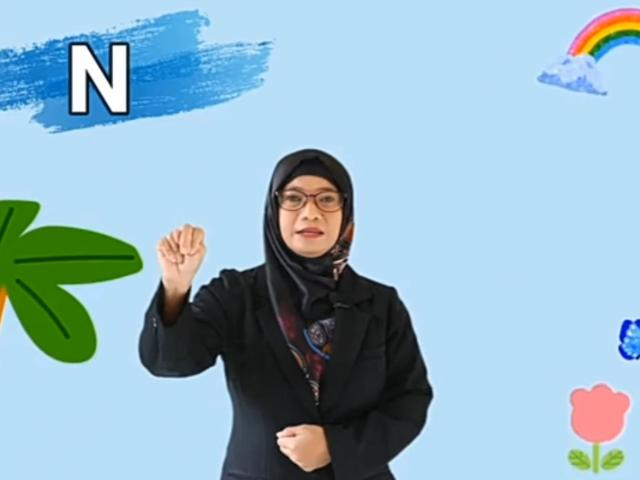N: (158, 223, 206, 285)
